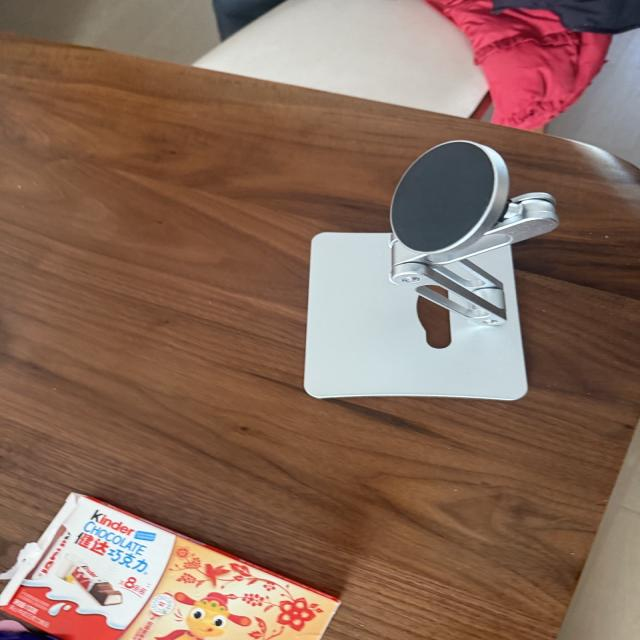phone holder: (248, 128, 563, 410)
